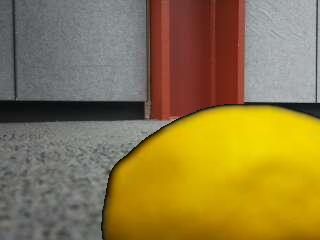lemon: (103, 105, 320, 240)
